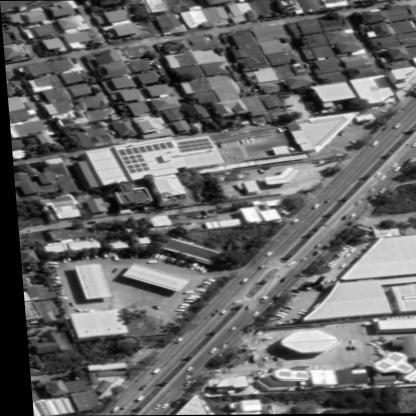solar-pv-panel: (116, 141, 171, 173), (173, 138, 210, 152)
